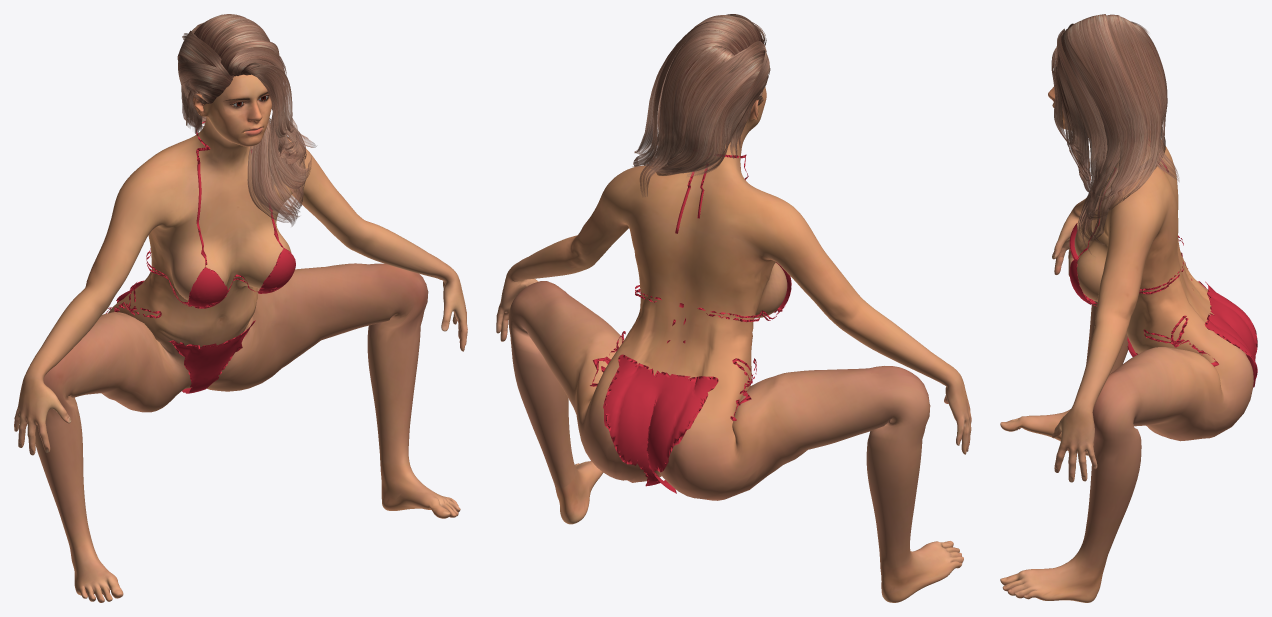
The model's file is female_squat_v5.glb.
3 renders of one model, left to right at view 1: azimuth 30°, elevation 25°; view 2: azimuth 150°, elevation 25°; view 3: azimuth 270°, elevation 25°, orthographic. The views are drawn at different scales.
Parts seen in each view (by area): view 1: Body, Body.elvs_adrienne_hair, Bikini; view 2: Body, Body.elvs_adrienne_hair, Bikini; view 3: Body, Body.elvs_adrienne_hair, Bikini.
Part boxes in pixels (x1,y1,x2,y2): Body: (14,74,467,602); Body.elvs_adrienne_hair: (177,14,316,226); Bikini: (106,121,295,393); Body: (496,66,971,602); Body.elvs_adrienne_hair: (632,14,770,196); Bikini: (590,154,791,493); Body: (1000,87,1253,602); Body.elvs_adrienne_hair: (1051,14,1179,254); Bikini: (1069,161,1257,387).
Bounding box in the file's own units: 1.07 × 1.2 × 0.5492.
Materials: 8 (7 with a texture image).
